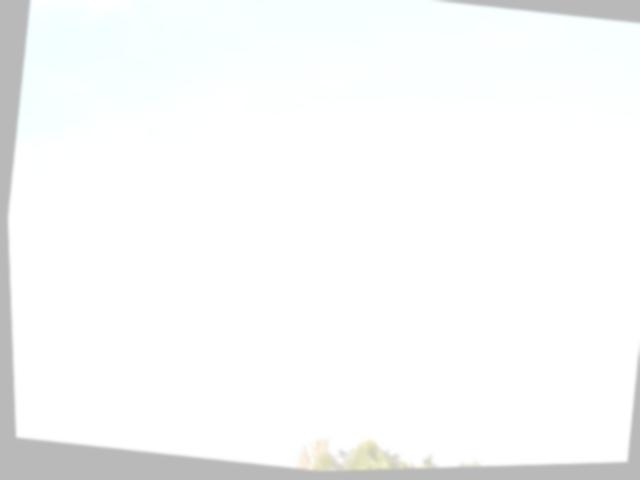uav: (420, 307, 442, 331)
